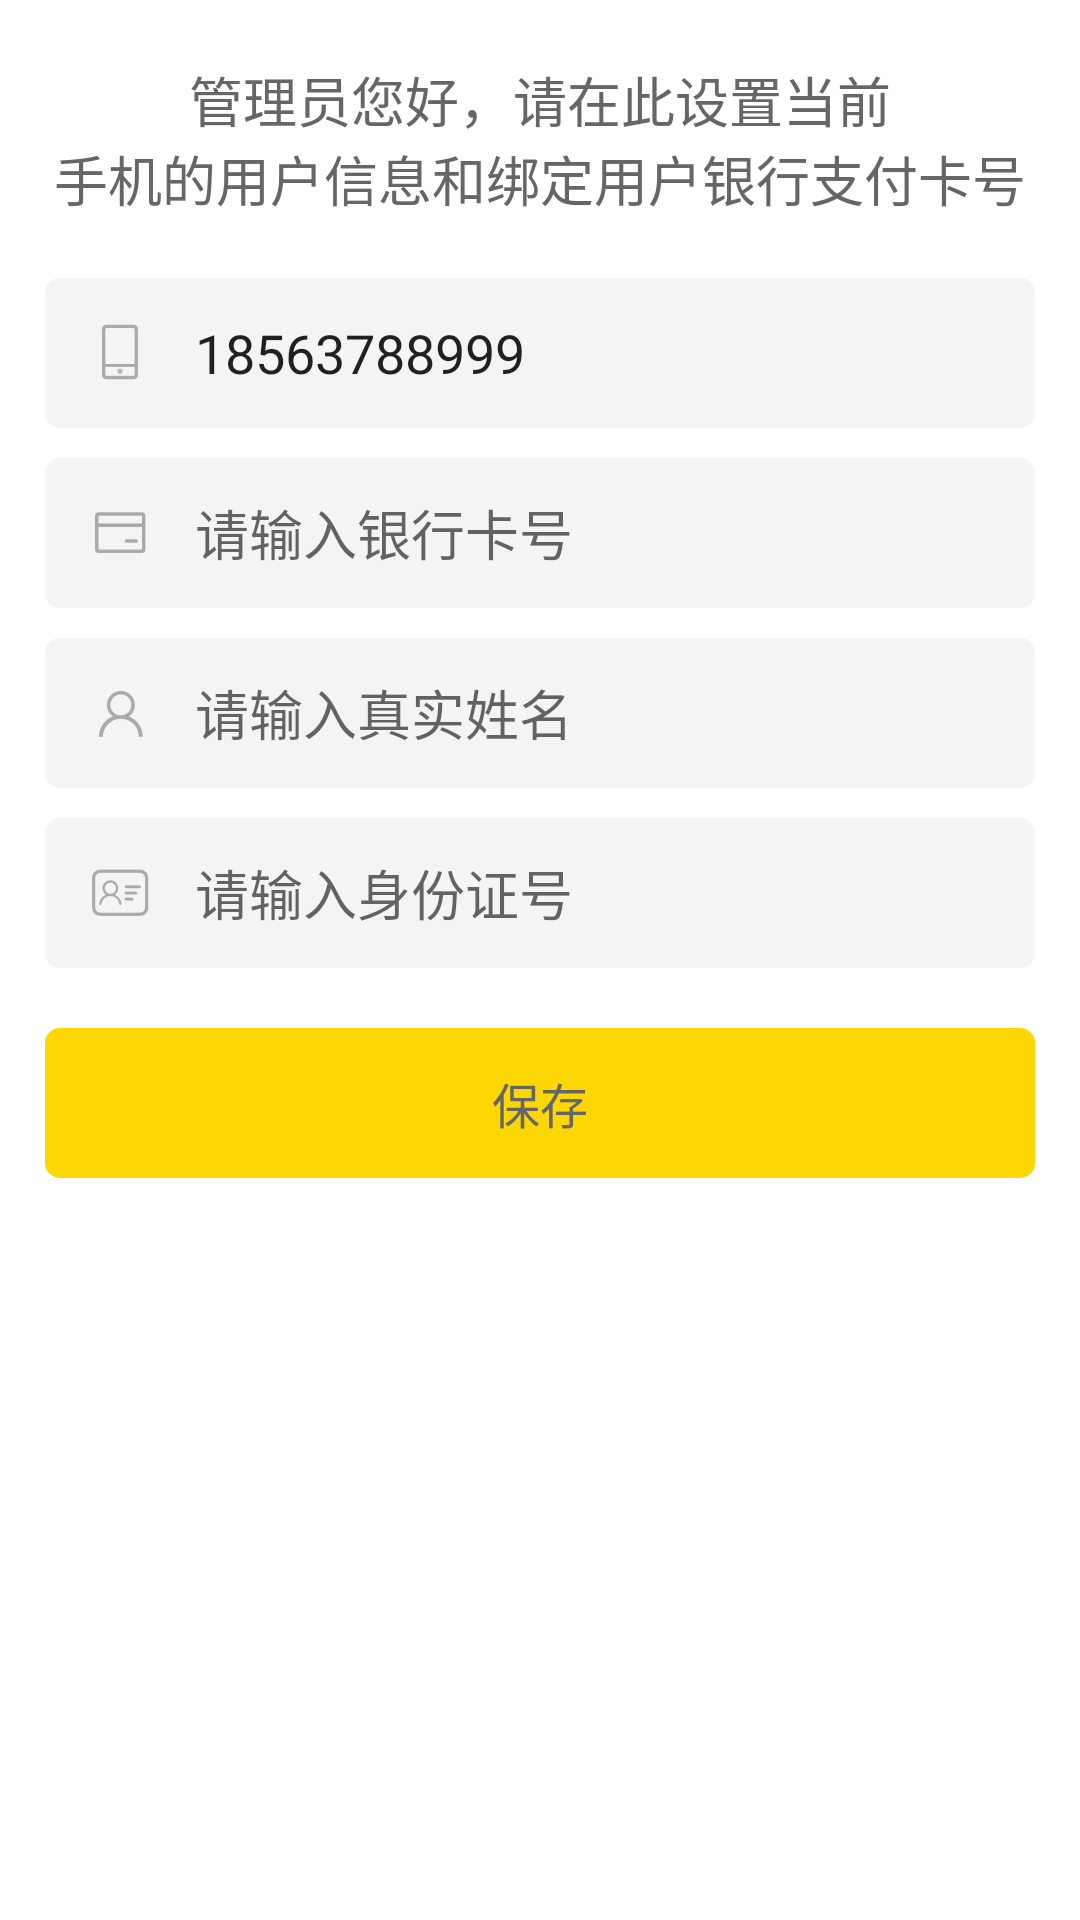

Icon click points for this 1080px×1920px phone screenshot, format (x=x, y=y):
seting ebank: (x=120, y=532)
seting idcard: (x=120, y=892)
seting name: (x=121, y=714)
seting phone: (x=120, y=352)
